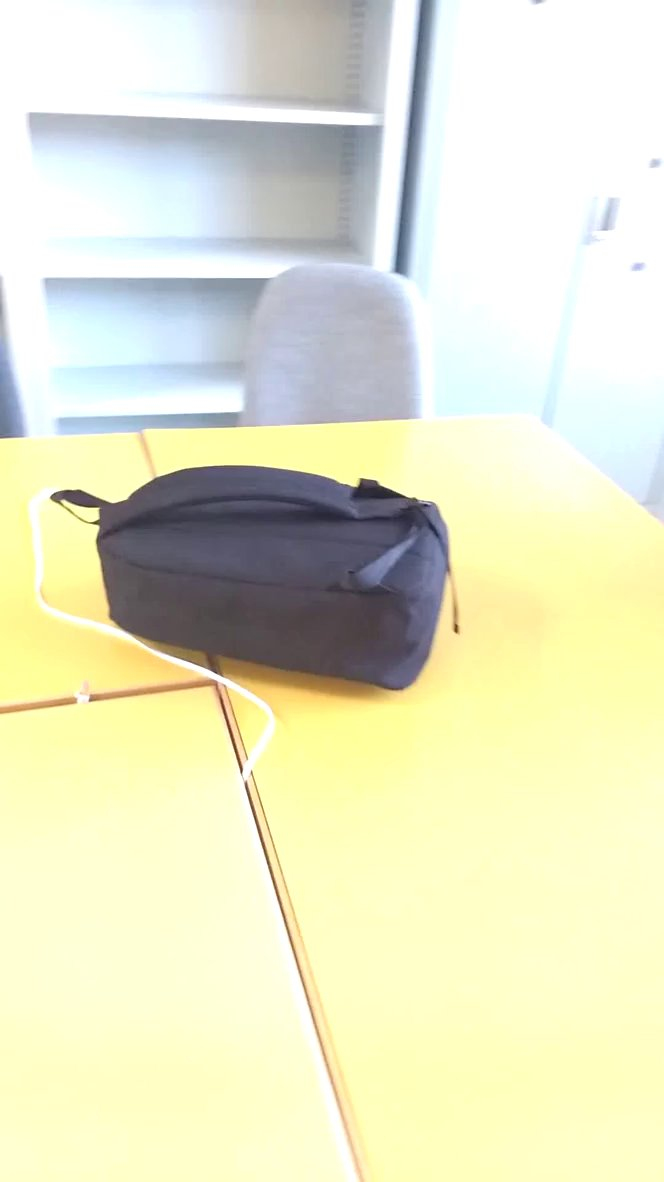bag: (47, 458, 476, 705)
chair: (226, 255, 442, 442)
